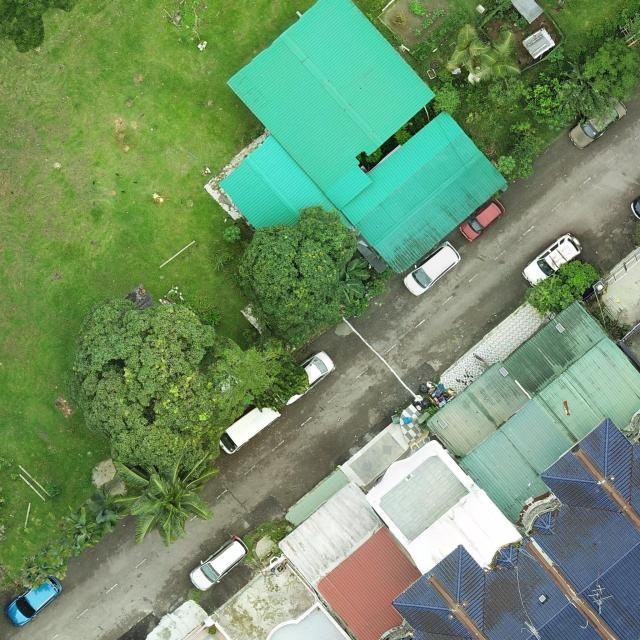Tree: (66, 296, 216, 482), (238, 206, 357, 335), (110, 448, 219, 546), (211, 337, 311, 417), (524, 260, 598, 318), (582, 40, 640, 97), (522, 72, 576, 132), (560, 55, 609, 117), (472, 29, 521, 81), (445, 23, 492, 72), (84, 486, 130, 536), (507, 121, 543, 180), (63, 504, 102, 558), (337, 257, 371, 306), (432, 85, 462, 117), (222, 224, 241, 244), (497, 155, 516, 174)
